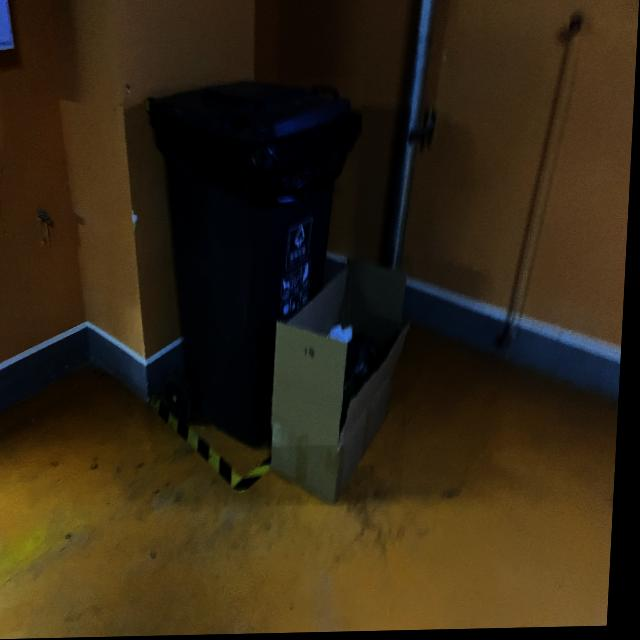garbage: (271, 258, 417, 508)
garbage_bin: (133, 79, 363, 450)
